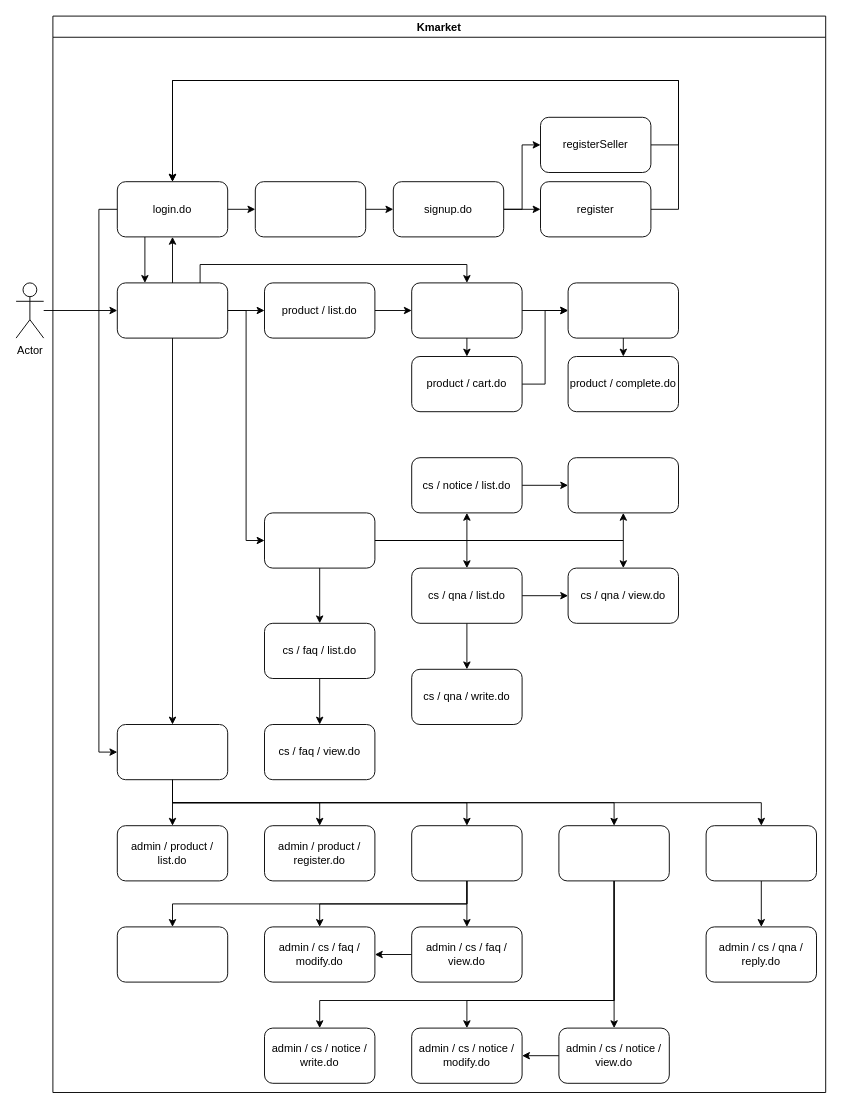
Some shapes in this 842 by 1109 pixel diagram are drawn without their labels. The shapes that lost their labels are listed below. From the top down, each one's centre as x and y in pixels, then its label:
At pixel 310 209: "join.do".
At pixel 172 310: "index.do".
At pixel 466 310: "product / view.do".
At pixel 622 310: "product / order.do".
At pixel 622 485: "cs / notice / view.do".
At pixel 319 540: "cs / index.do".
At pixel 172 752: "admin / index.do".
At pixel 466 853: "admin / cs / faq / list.do".
At pixel 613 853: "admin / cs / notice / list.do".
At pixel 760 853: "admin / cs / qna / list.do".
At pixel 172 954: "admin / cs / faq / write.do".
